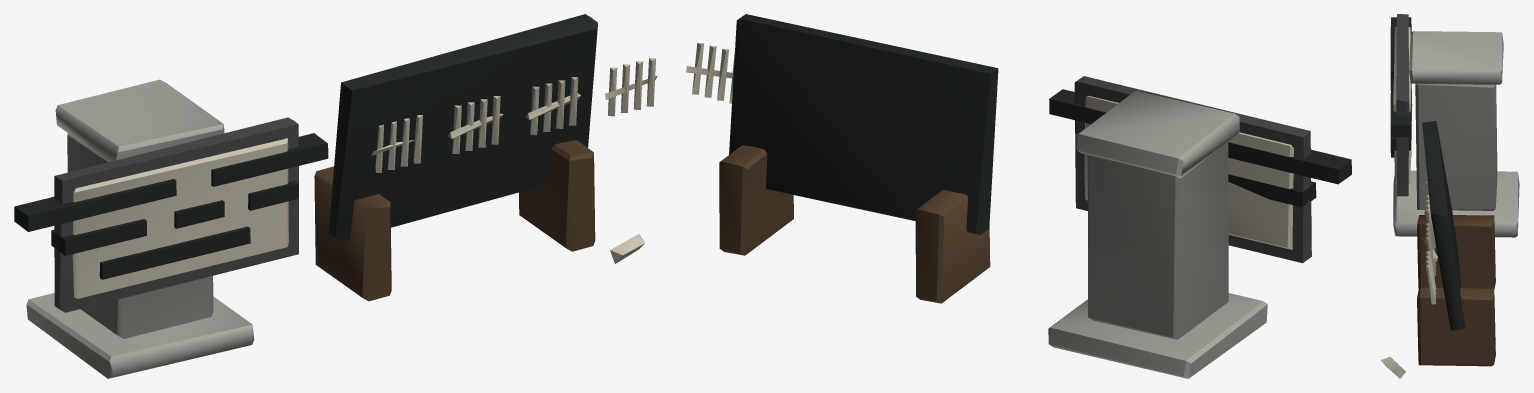
File: stencil_post_a_lod1.glb
3 renders of one model, left to right at view 1: azimuth 30°, elevation 25°; view 2: azimuth 150°, elevation 25°; view 3: azimuth 270°, elevation 25°, orthographic. The views are drawn at different scales.
Visible parts, largest first — view 1: Surface.001; view 2: Surface.001; view 3: Surface.001.
Boxes of the visible parts, x1,y1,x2,y2 form: Surface.001: [14, 14, 657, 378]; Surface.001: [686, 14, 1351, 378]; Surface.001: [1380, 14, 1519, 378].
Size of the model in its own units: 5.35 by 1.71 by 1.32.
